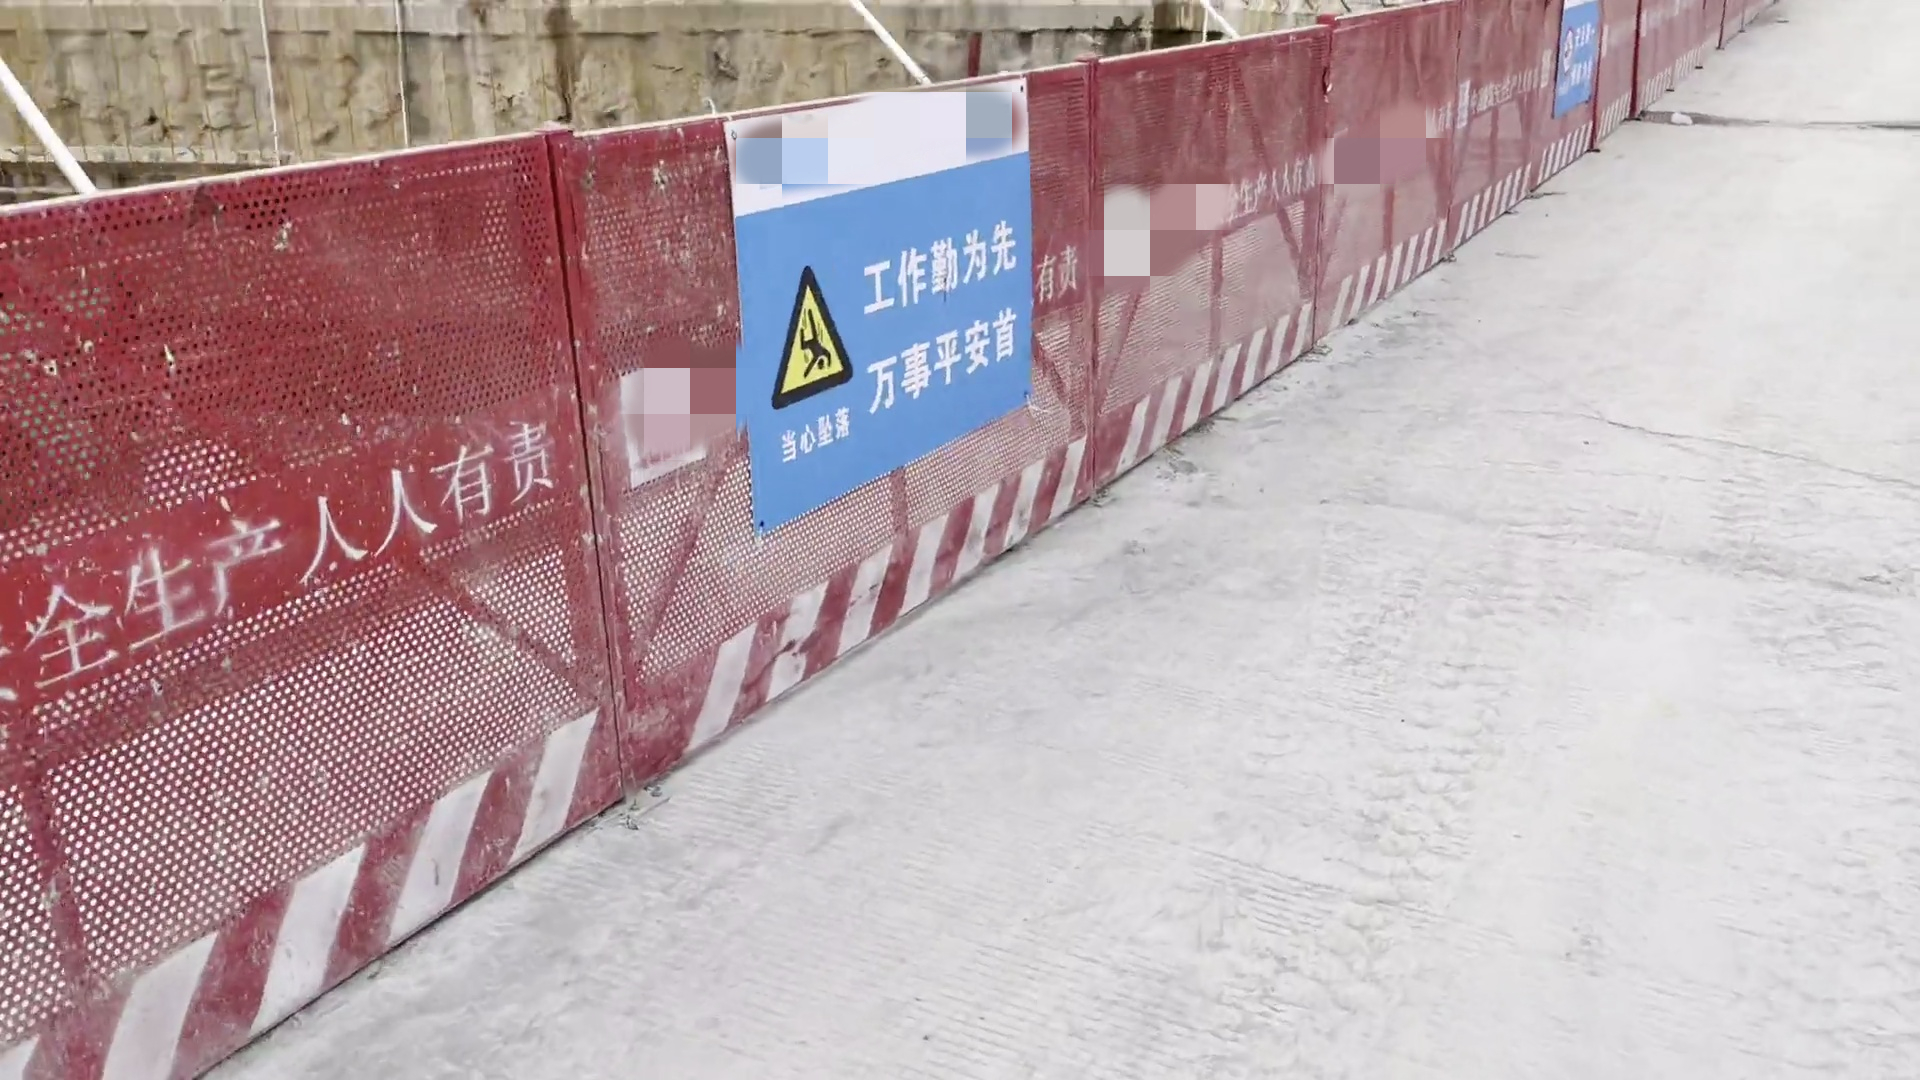fence: (12, 1, 1760, 1077)
slogan: (1, 406, 537, 703)
